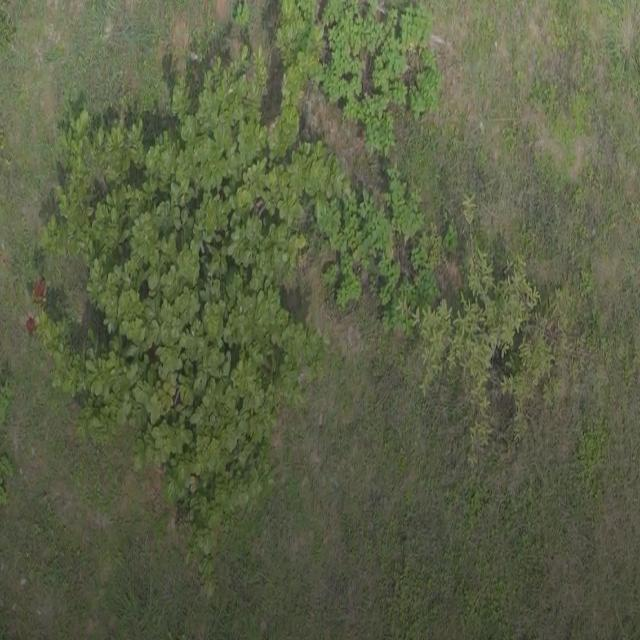notMangoTree: (22, 0, 435, 600), (414, 230, 556, 455)
